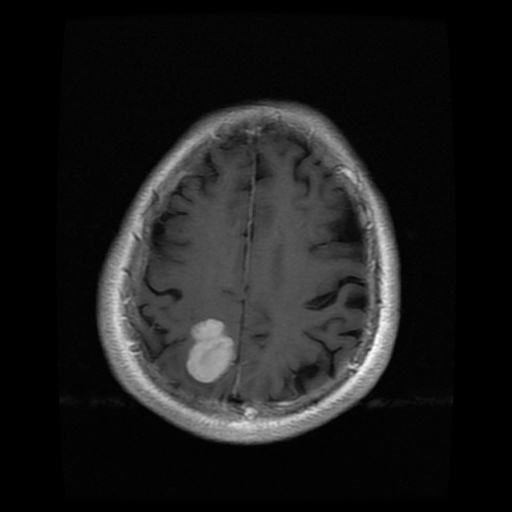meningioma: (186, 317, 235, 381)
